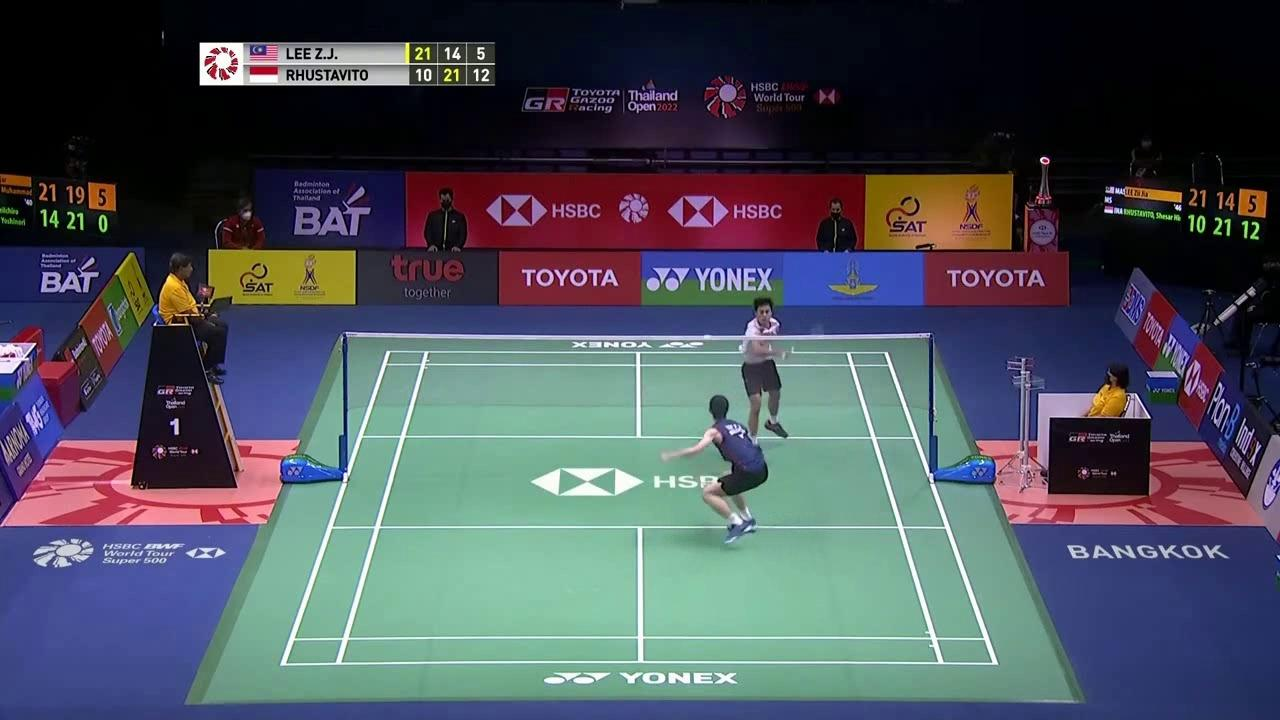racket: (784, 320, 828, 357), (715, 467, 736, 478)
shuttle: (701, 331, 713, 346)
